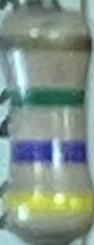Blue: (9, 139, 87, 166)
Green: (8, 86, 83, 107)
Side-Silver: (1, 32, 91, 52)
Yellow: (4, 190, 92, 217)
